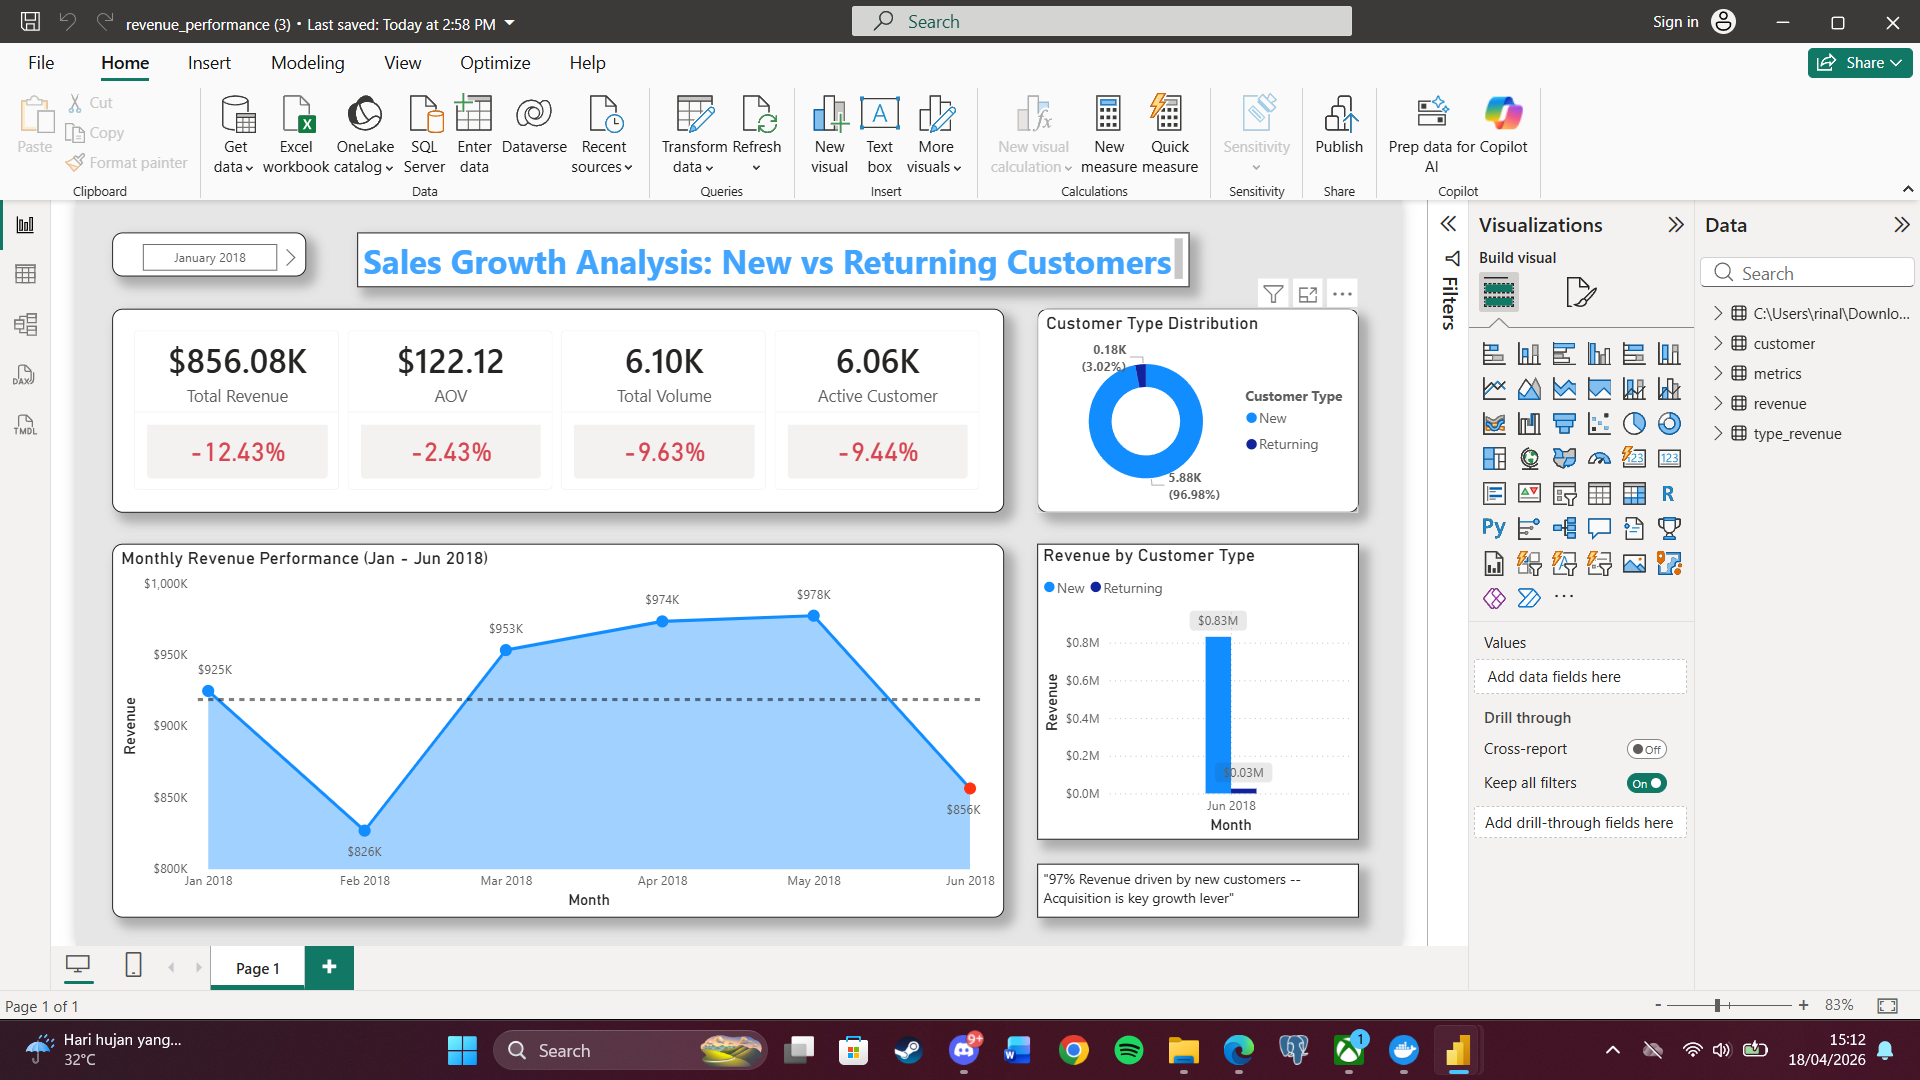

The page's visual inventory and layout, read from the dashboard file:
{"tool":"powerbi","page":{"name":"Page 1","canvas":[1280,720],"ordinal":0},"visuals":[{"type":"slicer","fields":{"Values":["C:\\Users\\rinal\\Downloads\\Folder SQL\\_revenue csv.month"]},"box":[35,31.4,187,42.2],"z":0},{"type":"areaChart","title":"Monthly Revenue Performance (Jan - Jun 2018)","fields":{"Category":["C:\\Users\\rinal\\Downloads\\Folder SQL\\_revenue csv.Month"],"Y":["Sum(revenue.revenue)"]},"box":[35,331.5,861.2,361.2],"z":1000},{"type":"cardVisual","fields":{"Data":["Sum(C:\\Users\\rinal\\Downloads\\Folder SQL\\_revenue csv.revenue)","Sum(C:\\Users\\rinal\\Downloads\\Folder SQL\\_metrics csv.aov)","Sum(metrics.volume)","Sum(C:\\Users\\rinal\\Downloads\\Folder SQL\\_data-1773079859170 csv.active_customer)"]},"box":[35,105.1,861.2,196.8],"z":2000},{"type":"donutChart","title":"Customer Type Distribution","fields":{"Category":["C:\\Users\\rinal\\Downloads\\Folder SQL\\_customer_type csv.customer_type"],"Y":["Sum(C:\\Users\\rinal\\Downloads\\Folder SQL\\_customer_type csv.active_customer_type)"]},"box":[927.8,105,310.1,196.6],"z":3000},{"type":"textbox","box":[270.9,31,803.2,52.6],"z":4000},{"type":"clusteredColumnChart","title":"Revenue by Customer Type","fields":{"Category":["type_revenue.month"],"Y":["Sum(type_revenue.revenue)"],"Series":["type_revenue.customer_type"]},"box":[927.8,331.8,310.1,285.9],"z":5000},{"type":"textbox","box":[927.8,640.6,310.1,51.9],"z":6000}]}

Visuals, with their boxes on the page's 1280x720 design canvas (x1, y1, x2, y2). These are canvas units, not pixel positions in the 1920x1080 screenshot, which may show the page scaled, cropped or inside an application window:
slicer - C:\Users\rinal\Downloads\Folder SQL\_revenue csv.month: [left=35, top=31, right=222, bottom=74]
"Monthly Revenue Performance (Jan - Jun 2018)" areaChart: [left=35, top=332, right=896, bottom=693]
cardVisual - Sum(C:\Users\rinal\Downloads\Folder SQL\_revenue csv.revenue) x Sum(C:\Users\rinal\Downloads\Folder SQL\_metrics csv.aov): [left=35, top=105, right=896, bottom=302]
"Customer Type Distribution" donutChart: [left=928, top=105, right=1238, bottom=302]
textbox: [left=271, top=31, right=1074, bottom=84]
"Revenue by Customer Type" clusteredColumnChart: [left=928, top=332, right=1238, bottom=618]
textbox: [left=928, top=641, right=1238, bottom=692]
